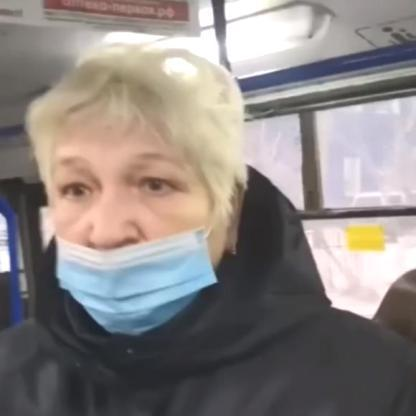mask_weared_incorrect: (22, 57, 248, 341)
